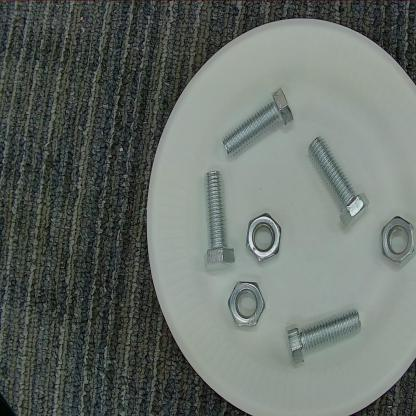FOD: (303, 131, 375, 232), (220, 84, 296, 162), (284, 308, 366, 366), (201, 164, 237, 276), (243, 208, 286, 270), (224, 278, 268, 334), (378, 209, 416, 272)
